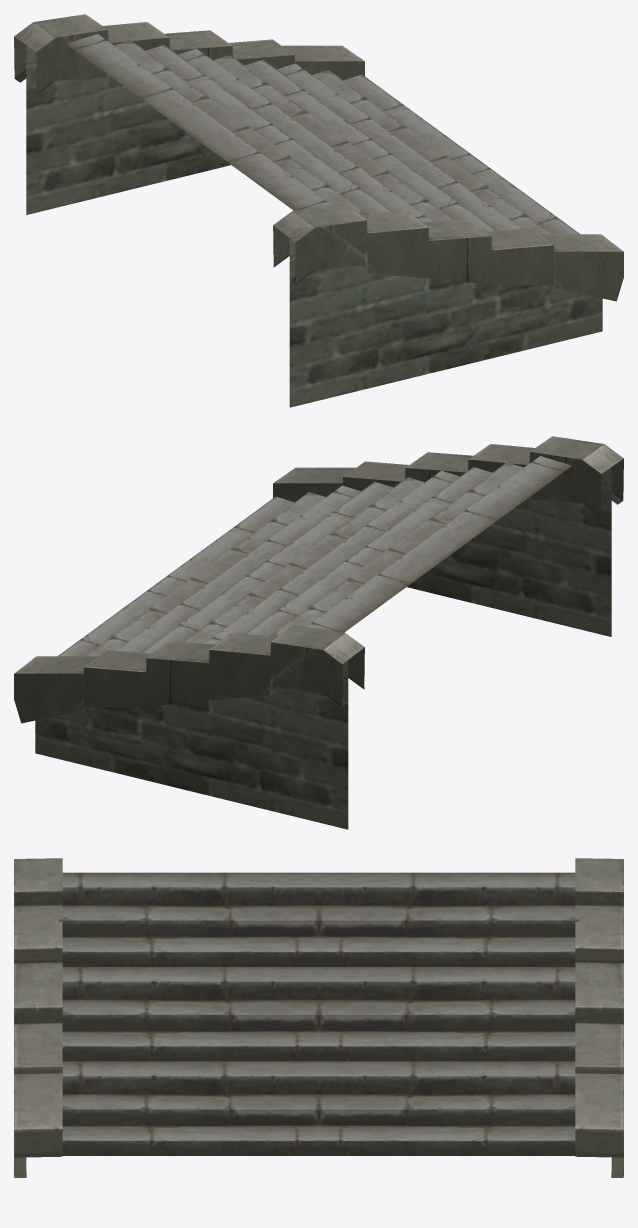
Rendered from Item_3001_wujian002_shijieti.FBX.
3 views of the same model, one above another, from view 1: azimuth 30°, elevation 25°; view 2: azimuth 150°, elevation 25°; view 3: azimuth 270°, elevation 25° (orthographic). The views are drawn at different scales.
Parts seen in each view (by area): view 1: Item_3001_wujian002_shijieti; view 2: Item_3001_wujian002_shijieti; view 3: Item_3001_wujian002_shijieti.
Boxes of the visible parts, bbox=[...] form: Item_3001_wujian002_shijieti: bbox=[14, 14, 623, 407]; Item_3001_wujian002_shijieti: bbox=[14, 436, 623, 829]; Item_3001_wujian002_shijieti: bbox=[14, 858, 623, 1177].
Size of the model in its own units: 395 by 210 by 585.
